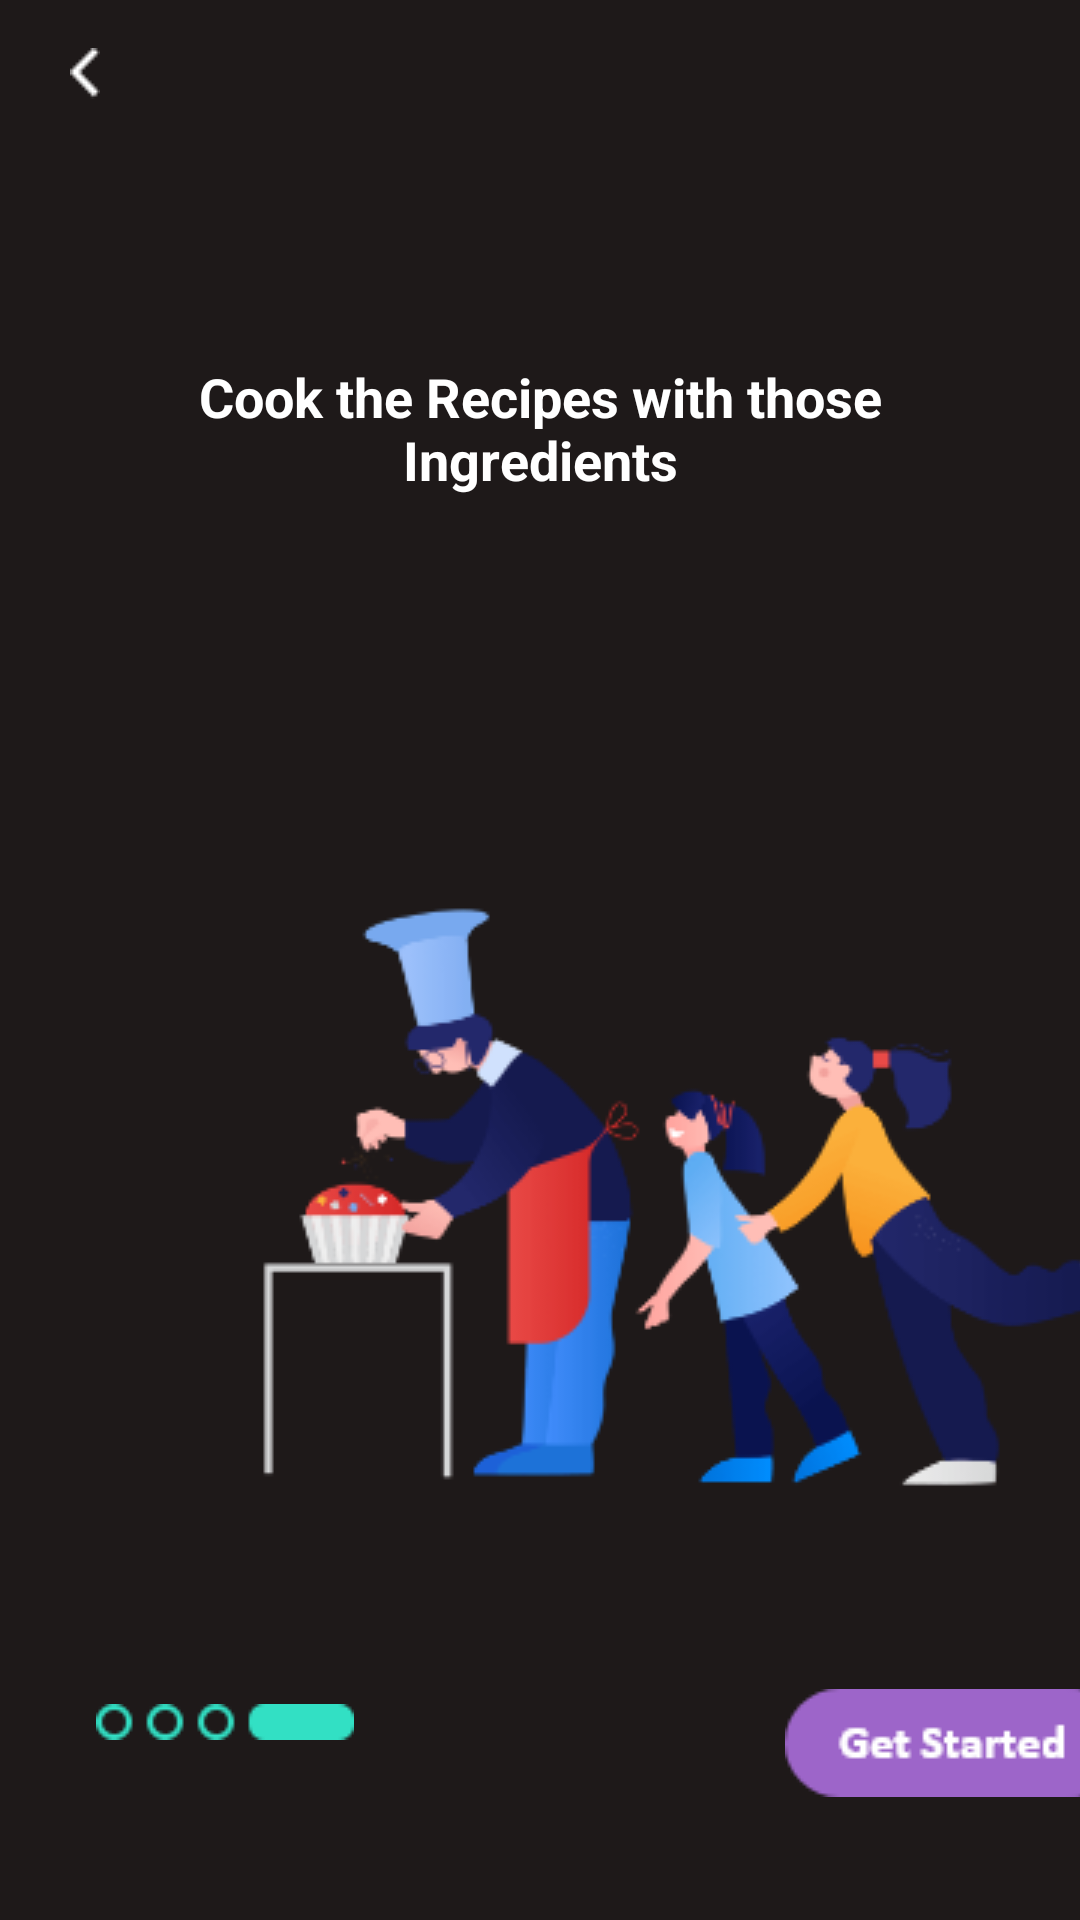

Locate icon controls on the screen. Image size 1080px x 1920px, boxes as (x1, y1, x2, y2).
back arrow: (70, 48, 100, 97)
